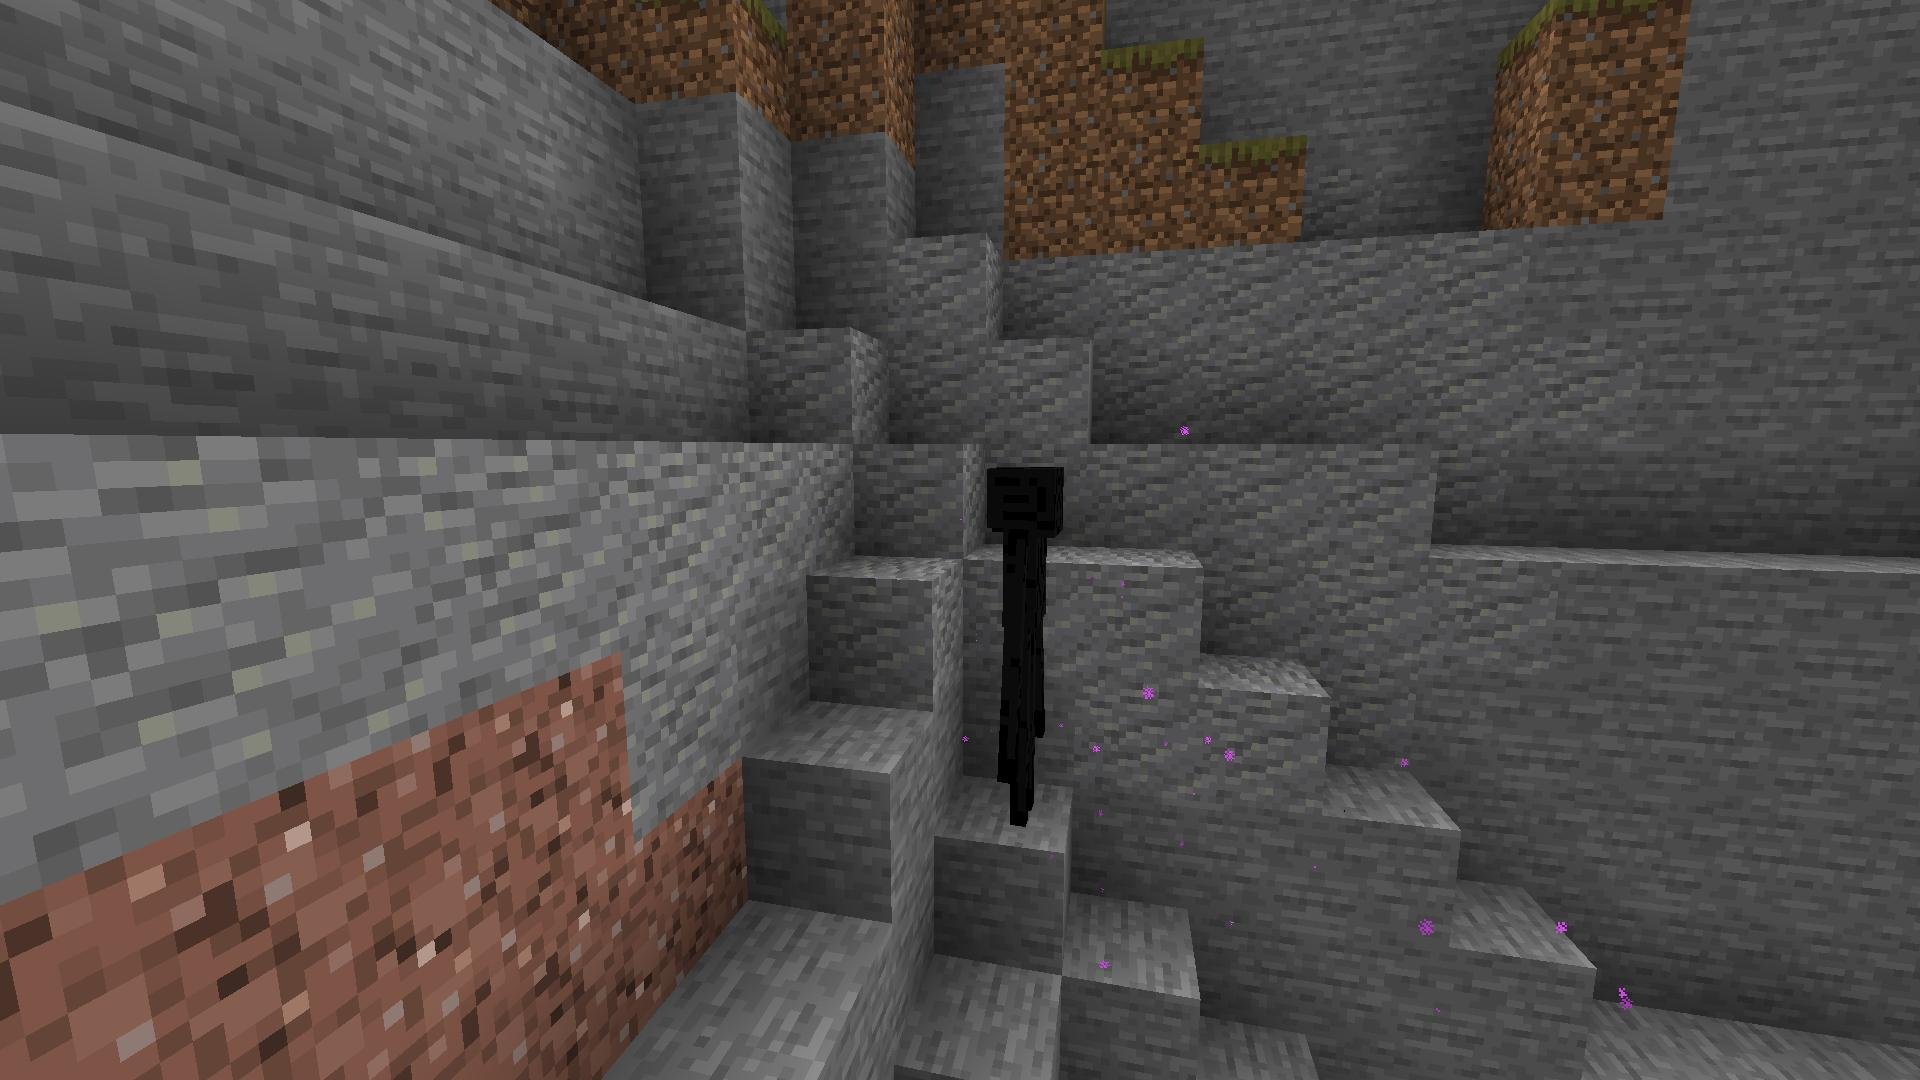enderman: (972, 452, 1083, 845)
